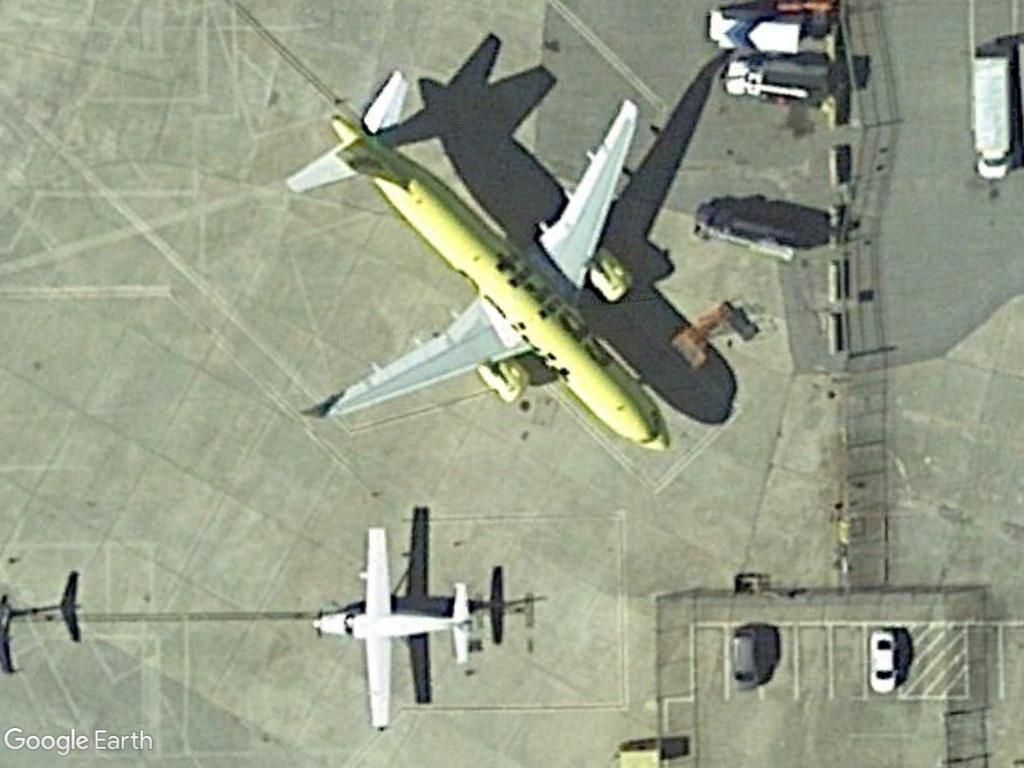airliner: (280, 63, 674, 479)
trainer: (307, 524, 481, 735)
